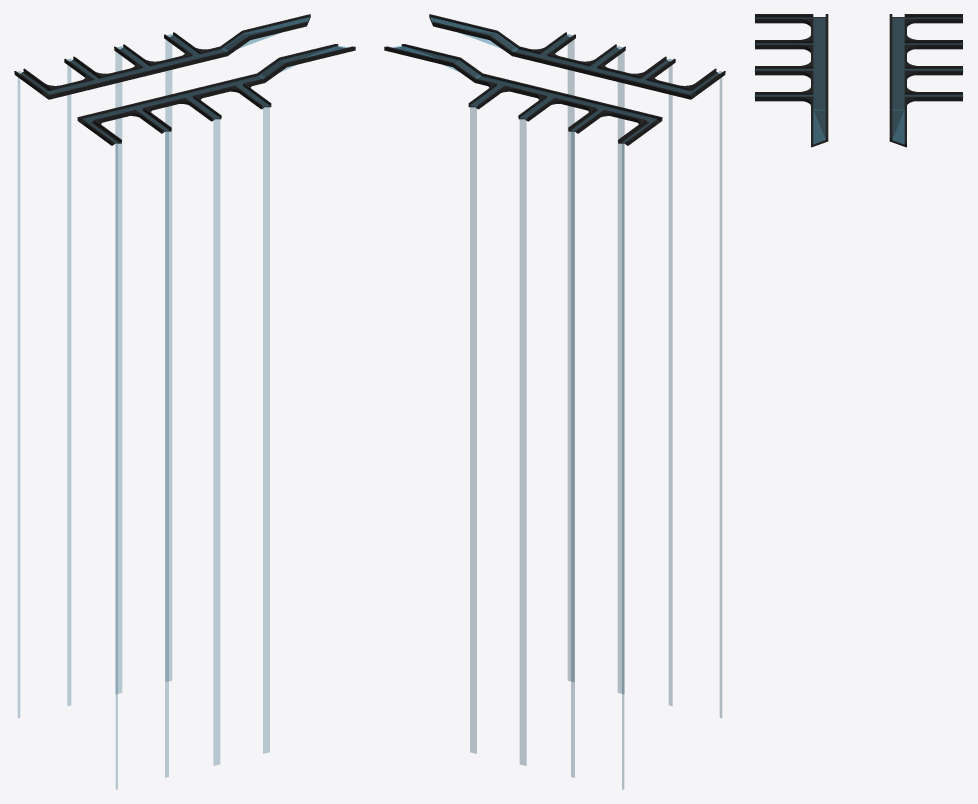
The model's file is Bridge_Aquaduct.fbx.
3 views of the same model, side by side, from view 1: azimuth 30°, elevation 25°; view 2: azimuth 150°, elevation 25°; view 3: azimuth 270°, elevation 25° (orthographic). The views are drawn at different scales.
Visible parts, largest first — view 1: pool.water, horizontal, vertical, pool, slant; view 2: pool.water, horizontal, vertical, pool, slant; view 3: horizontal, pool.water, vertical, pool, Circle.100.
Boxes of the visible parts, bbox=[...] form: pool.water: bbox=[18, 17, 347, 789]; horizontal: bbox=[14, 32, 271, 145]; vertical: bbox=[51, 54, 234, 122]; pool: bbox=[242, 14, 355, 66]; slant: bbox=[220, 31, 286, 82]; pool.water: bbox=[392, 17, 721, 789]; horizontal: bbox=[468, 32, 725, 145]; vertical: bbox=[505, 54, 688, 122]; pool: bbox=[384, 14, 497, 66]; slant: bbox=[453, 31, 519, 82]; horizontal: bbox=[755, 14, 962, 101]; pool.water: bbox=[754, 18, 963, 144]; vertical: bbox=[811, 19, 906, 94]; pool: bbox=[811, 108, 906, 147]; Circle.100: bbox=[798, 19, 919, 105].
Size of the model in its own units: 27.09 by 63.15 by 17.
